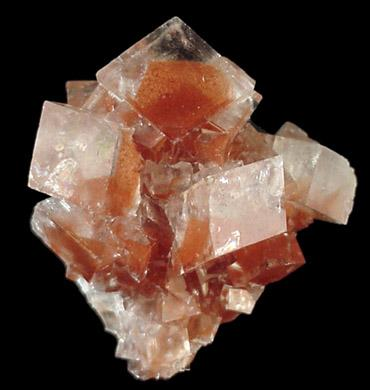calcite: (28, 17, 357, 380)
